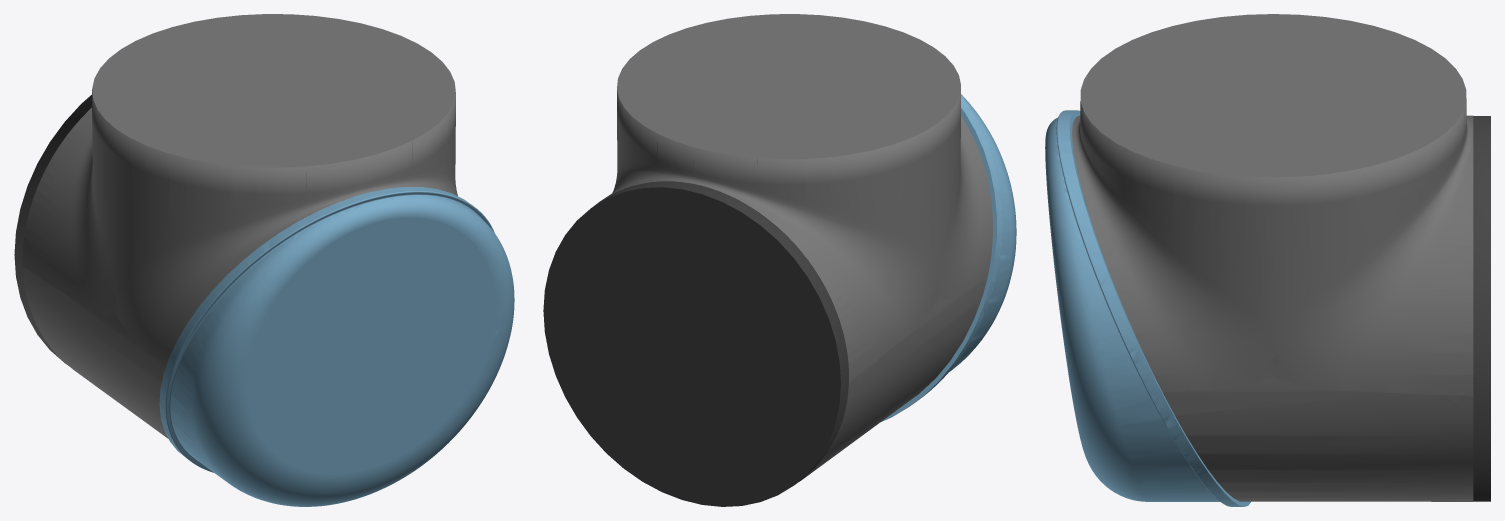
The model's file is shoulder.glb.
3 renders of one model, left to right at view 1: azimuth 30°, elevation 25°; view 2: azimuth 150°, elevation 25°; view 3: azimuth 270°, elevation 25°, orthographic. The views are drawn at different scales.
Parts seen in each view (by area): view 1: /Actor0/ActorShape0_0-Mesh_023-mesh/0, /Actor1/ActorShape1_0-Mesh_017-mesh/0, /Actor0/ActorShape0_0-Mesh_023-mesh/1; view 2: /Actor0/ActorShape0_0-Mesh_023-mesh/0, /Actor0/ActorShape0_0-Mesh_023-mesh/1, /Actor1/ActorShape1_0-Mesh_017-mesh/0; view 3: /Actor0/ActorShape0_0-Mesh_023-mesh/0, /Actor1/ActorShape1_0-Mesh_017-mesh/0, /Actor0/ActorShape0_0-Mesh_023-mesh/1.
Part boxes in pixels (x1,y1,x2,y2): /Actor0/ActorShape0_0-Mesh_023-mesh/0: [22, 14, 457, 438]; /Actor1/ActorShape1_0-Mesh_017-mesh/0: [159, 187, 514, 506]; /Actor0/ActorShape0_0-Mesh_023-mesh/1: [14, 95, 91, 366]; /Actor0/ActorShape0_0-Mesh_023-mesh/0: [596, 14, 992, 481]; /Actor0/ActorShape0_0-Mesh_023-mesh/1: [543, 181, 848, 506]; /Actor1/ActorShape1_0-Mesh_017-mesh/0: [881, 94, 1016, 421]; /Actor0/ActorShape0_0-Mesh_023-mesh/0: [1072, 14, 1473, 501]; /Actor1/ActorShape1_0-Mesh_017-mesh/0: [1045, 110, 1250, 506]; /Actor0/ActorShape0_0-Mesh_023-mesh/1: [1473, 116, 1490, 501].
Bounding box in the file's own units: 0.119 × 0.13 × 0.1337.
